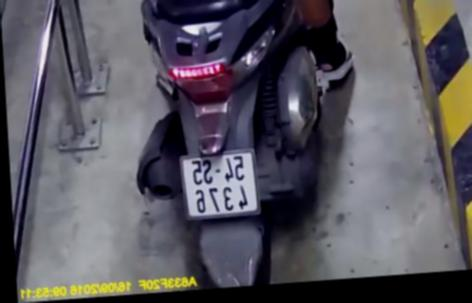License_Plate: (168, 141, 268, 222)
